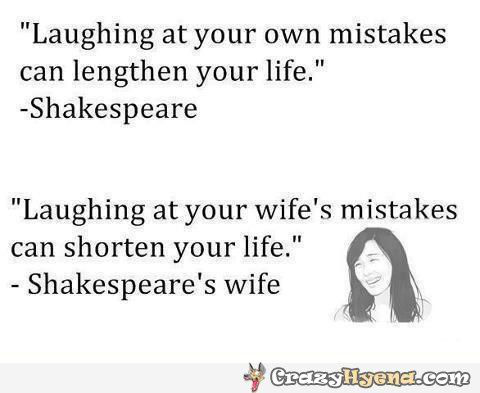latin: (16, 19, 449, 89), (21, 194, 460, 228), (25, 268, 282, 302), (9, 231, 284, 258), (29, 92, 199, 125)
